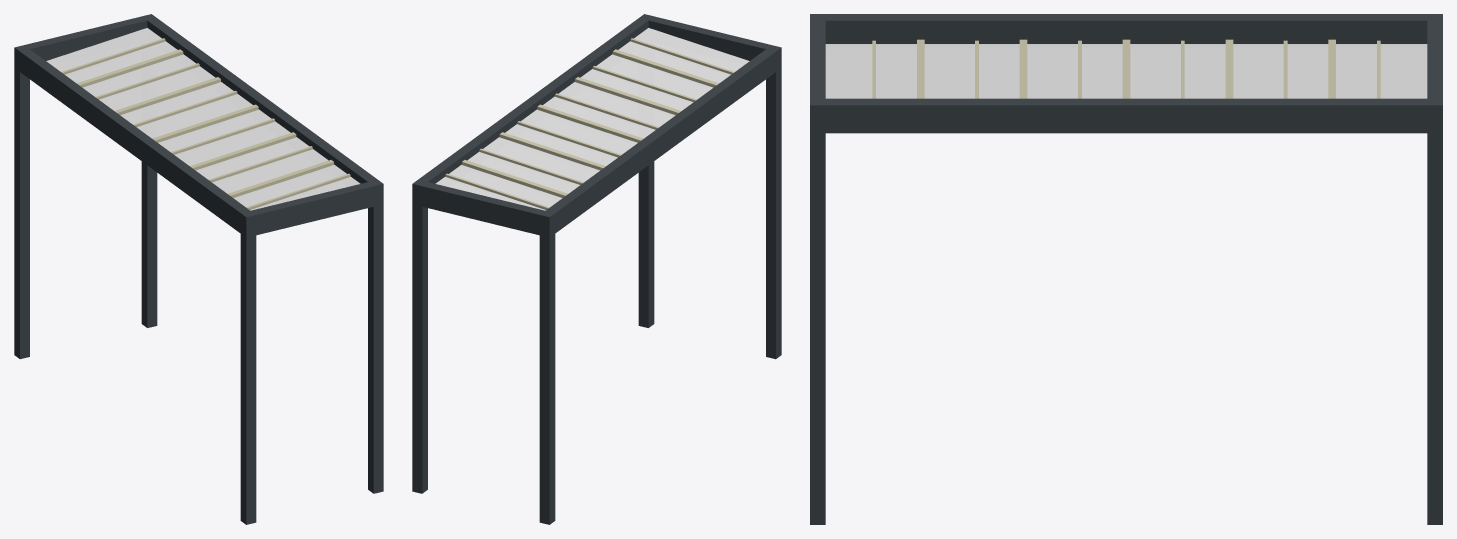
File: hyr-single_h30-w13-l40_matdarkgrey.fbx
3 renders of one model, left to right at view 1: azimuth 30°, elevation 25°; view 2: azimuth 150°, elevation 25°; view 3: azimuth 270°, elevation 25°, orthographic. The views are drawn at different scales.
Visible parts, largest first — view 1: hyr-single_h30-w13-l40_mat-d-grey; view 2: hyr-single_h30-w13-l40_mat-d-grey; view 3: hyr-single_h30-w13-l40_mat-d-grey.
Part boxes in pixels (x1,y1,x2,y2): hyr-single_h30-w13-l40_mat-d-grey: (14, 14, 383, 524); hyr-single_h30-w13-l40_mat-d-grey: (412, 14, 781, 524); hyr-single_h30-w13-l40_mat-d-grey: (810, 14, 1442, 524).
Size of the model in its own units: 140 by 300 by 410.
Materials: 3 (2 with a texture image).
